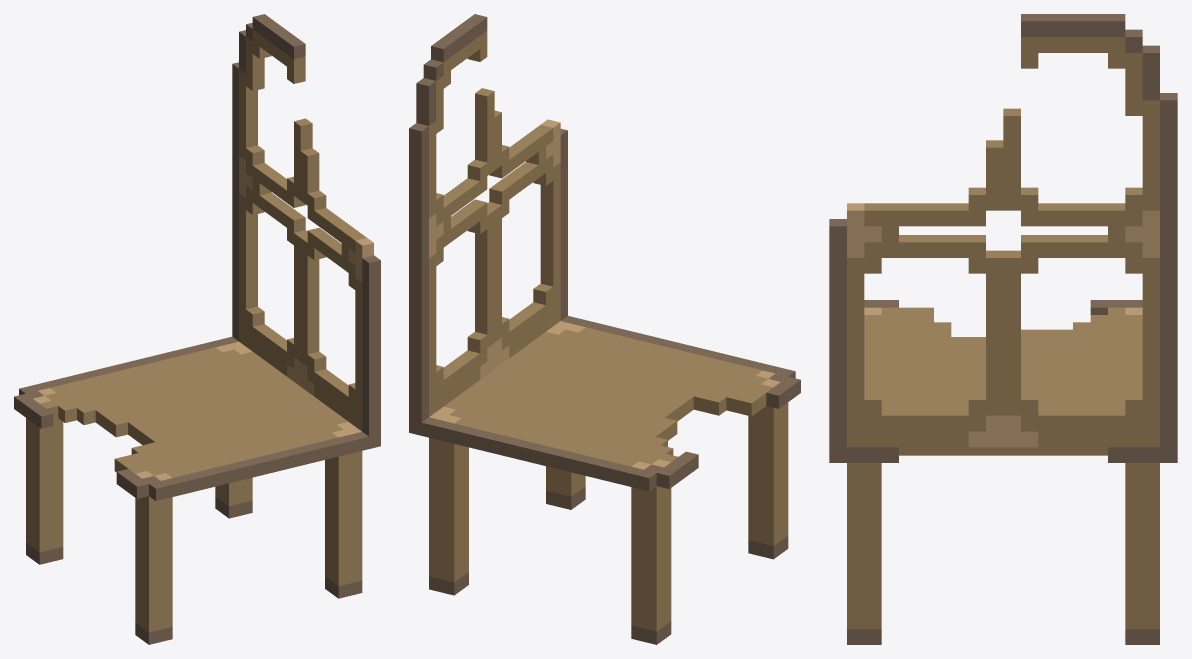
File: Silla_1_Rota_Union.obj
3 renders of one model, left to right at view 1: azimuth 30°, elevation 25°; view 2: azimuth 150°, elevation 25°; view 3: azimuth 270°, elevation 25°, orthographic. The views are drawn at different scales.
Bounding box in the file's own units: 2 × 4 × 2.
Materials: 1 (1 with a texture image).
